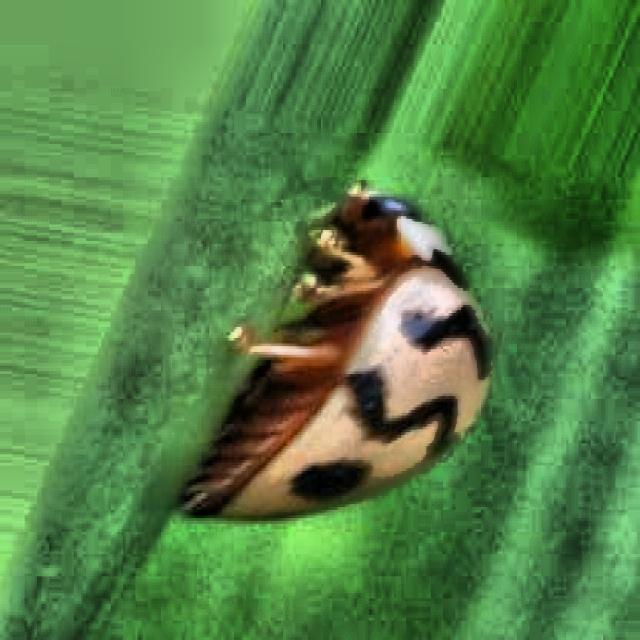Asian-Lady-beetle: (185, 129, 504, 562)
